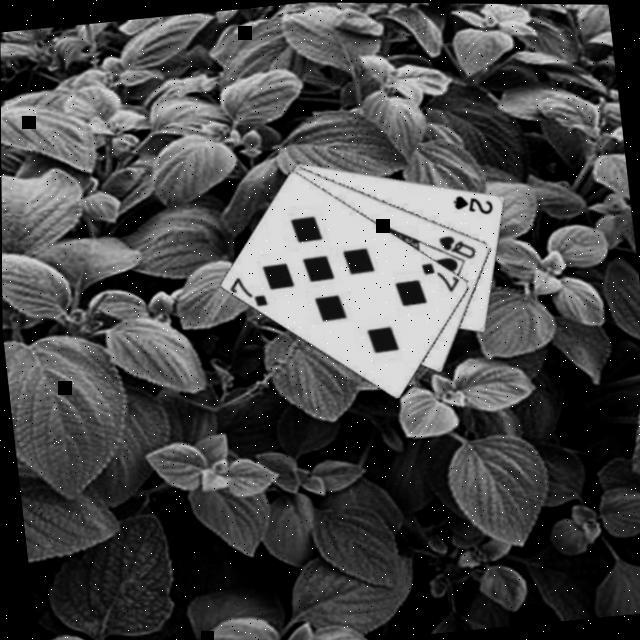2S: (448, 186, 494, 218)
7D: (224, 269, 270, 311), (416, 255, 461, 295)
QH: (434, 228, 478, 262)
